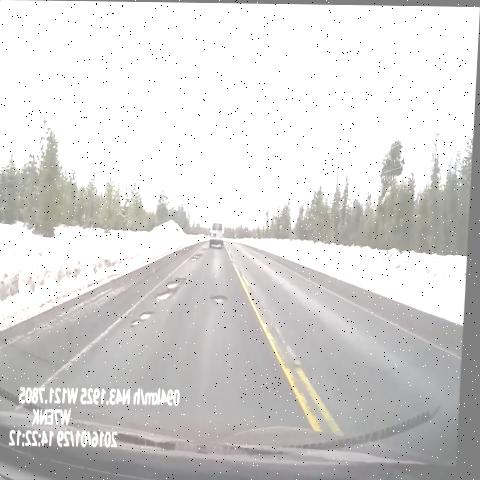pothole: (155, 267, 193, 308), (128, 308, 159, 336), (209, 288, 235, 309), (187, 249, 206, 268), (199, 240, 217, 254)
